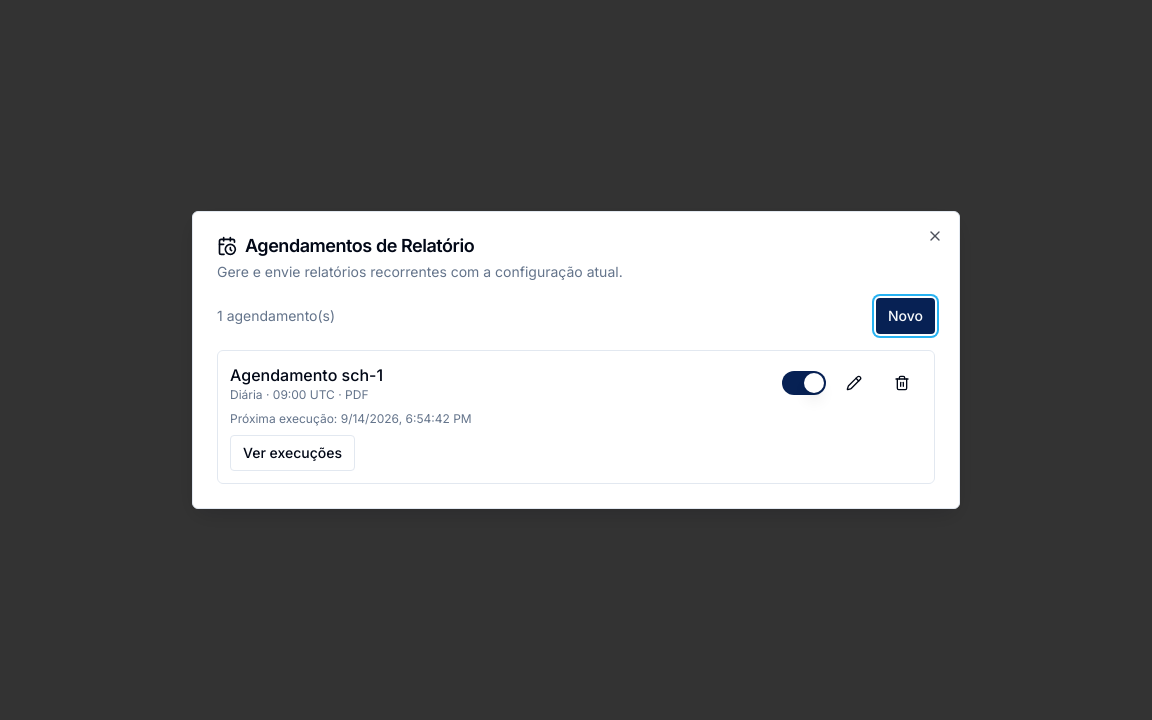
Scenario: ScheduleList — P5.2 resign UI › renderiza badge 'Link expirado' quando signed_url_expires_at está no passado
This screenshot has width=1152, height=720.
Expected: the text "Agendamento sch-1" is shown, [230,363,383,387]
Click the button "Ver execuções".
click(292, 453)  # box [230,435,355,471]
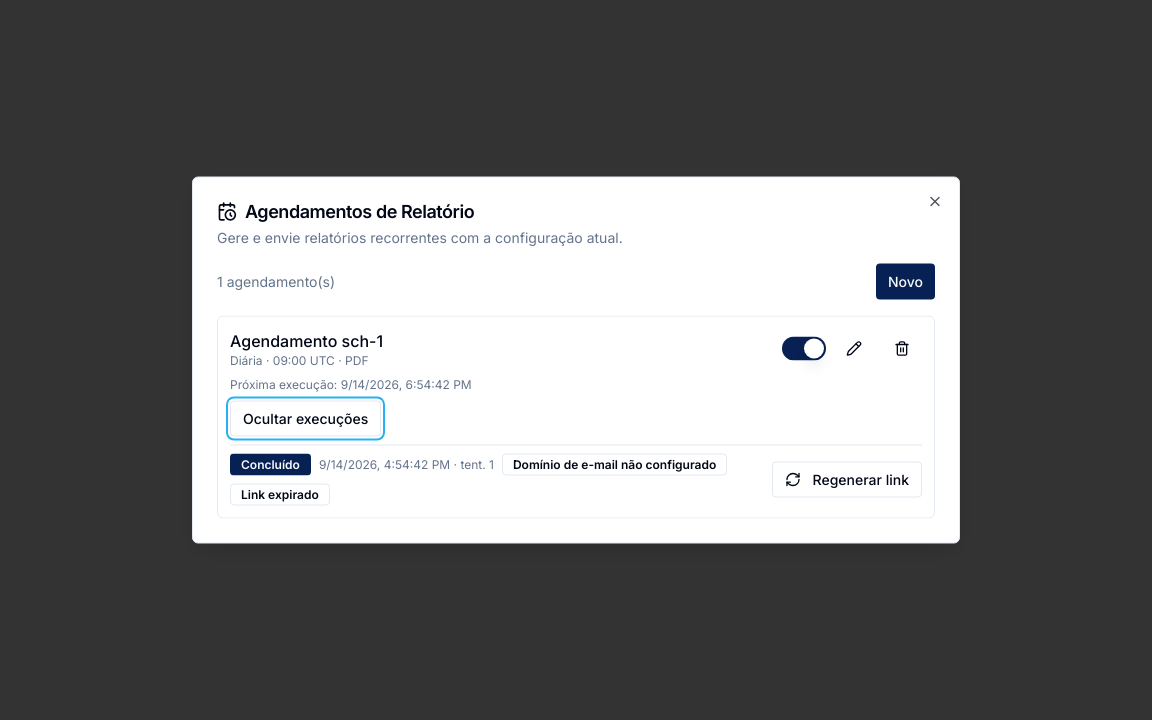
Expected: the text "Link expirado" is shown, [230,484,330,506]
Expected: the button with test id "resign-button-run-1" is shown, [772,462,922,498]
